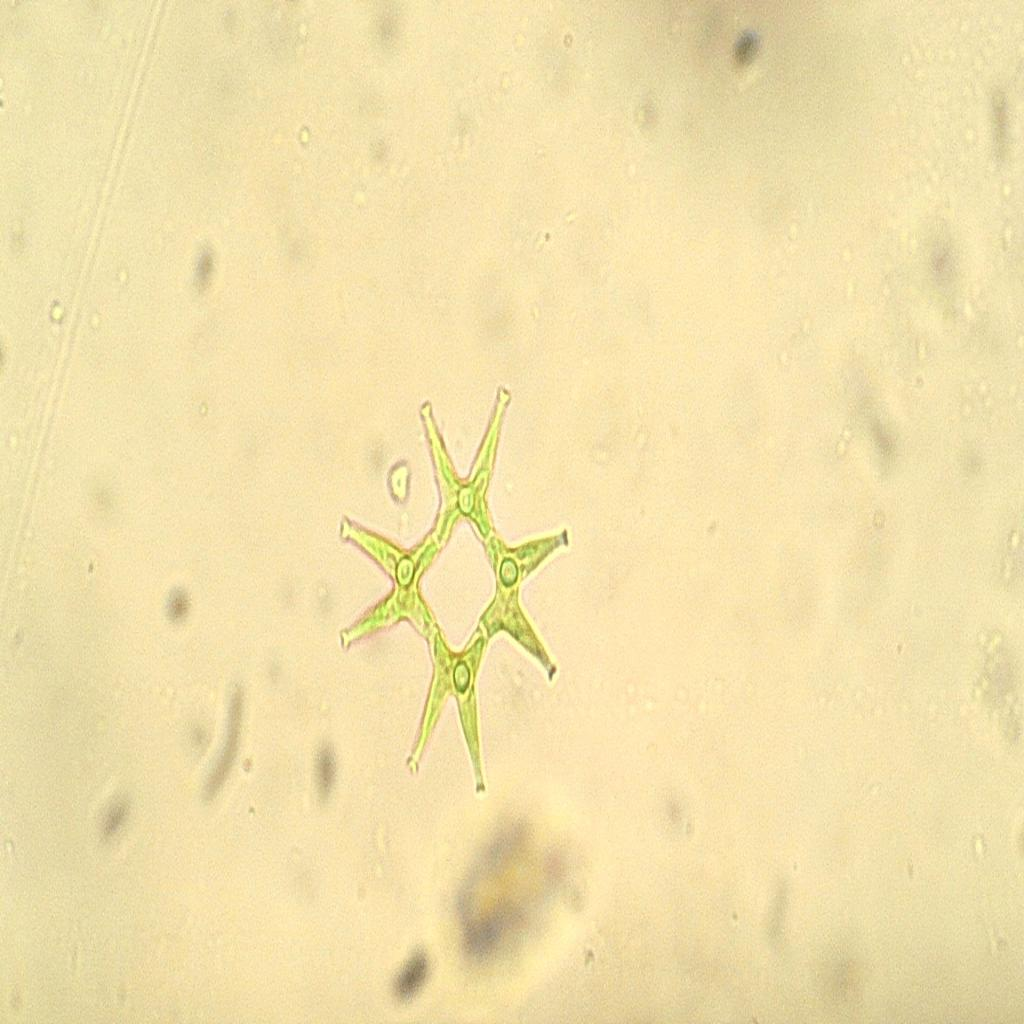Pediastrum_CO: (318, 368, 592, 819)
